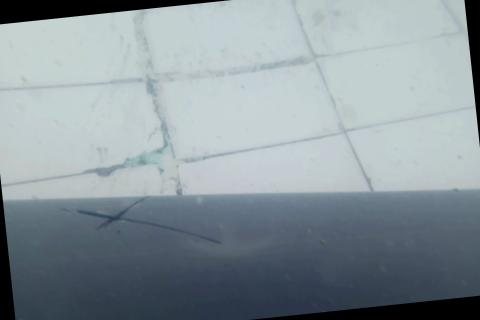keretakan: (56, 181, 224, 263)
